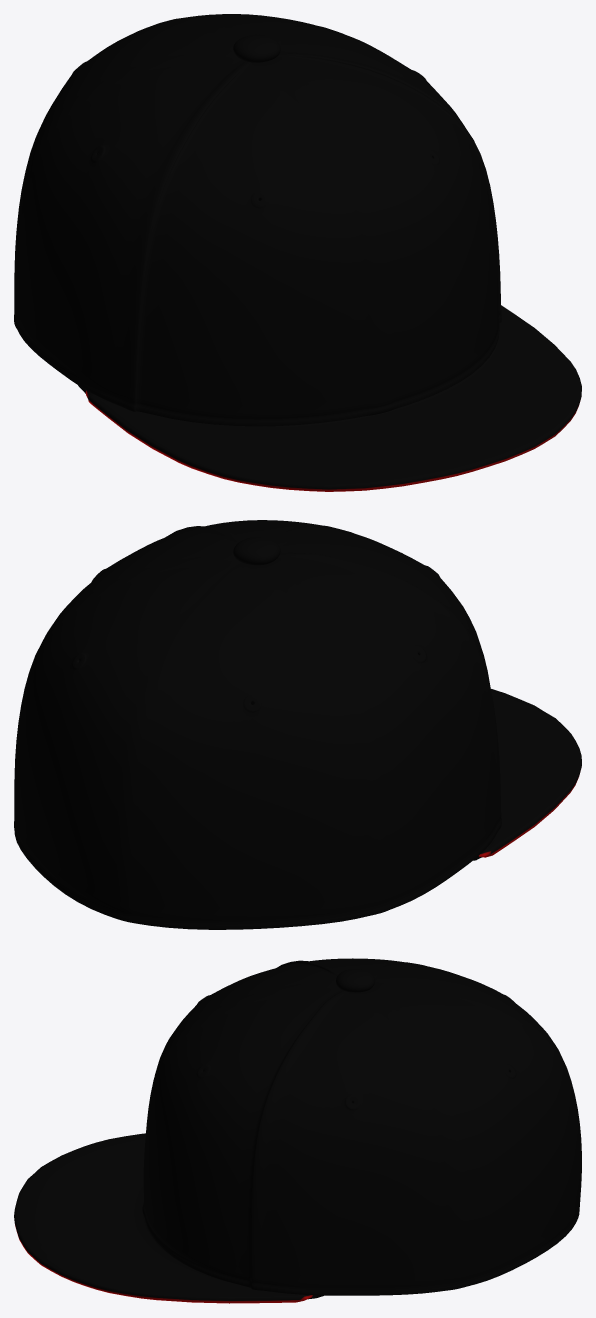
The model's file is bone-aba-reta.glb.
3 views of the same model, one above another, from view 1: azimuth 30°, elevation 25°; view 2: azimuth 150°, elevation 25°; view 3: azimuth 270°, elevation 25° (orthographic). The views are drawn at different scales.
Parts seen in each view (by area): view 1: crown, visor, button; view 2: crown, visor, button; view 3: crown, visor, button.
Part boxes in pixels (x1,y1,x2,y2): crown: [14, 14, 501, 426]; visor: [85, 305, 581, 491]; button: [233, 34, 280, 62]; crown: [14, 520, 501, 929]; visor: [479, 689, 581, 857]; button: [233, 537, 280, 565]; crown: [142, 958, 581, 1295]; visor: [14, 1133, 312, 1303]; button: [336, 969, 375, 992].
Bounding box in the file's own units: 0.1998 × 0.1363 × 0.2833.
Materials: 1 (1 with a texture image).
